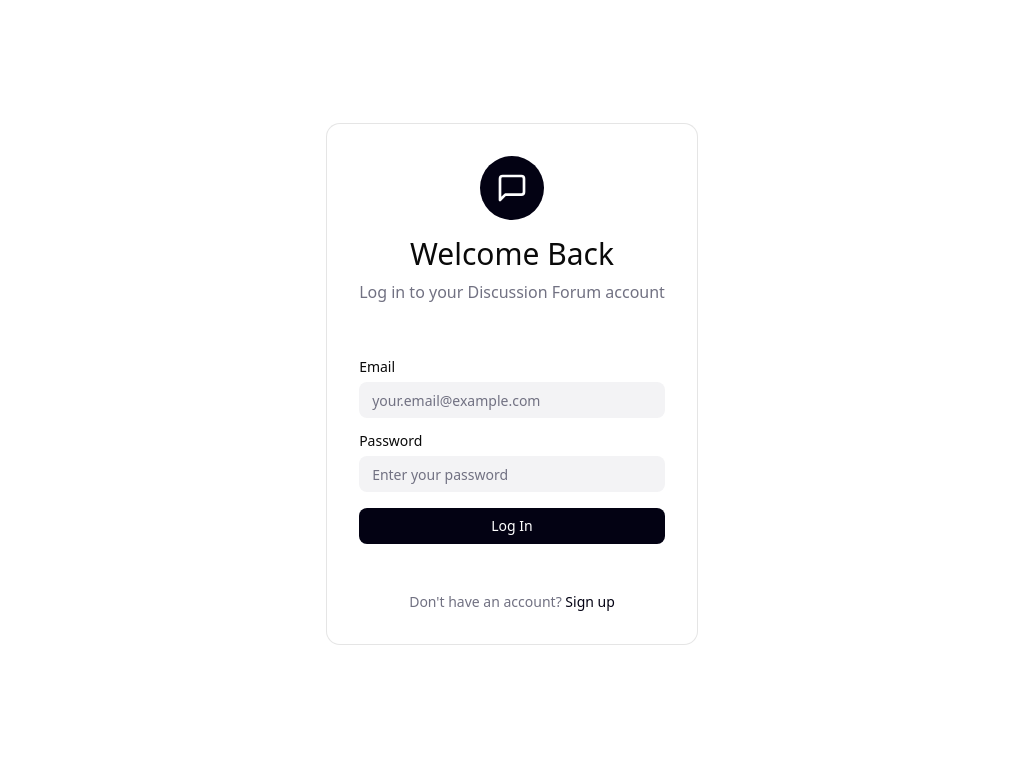
Test: Login E2E Tests › should display homepage after successful login
Type "user@example.com" into the field with test id "email-input" at point(512, 400), box [359,382,665,418]
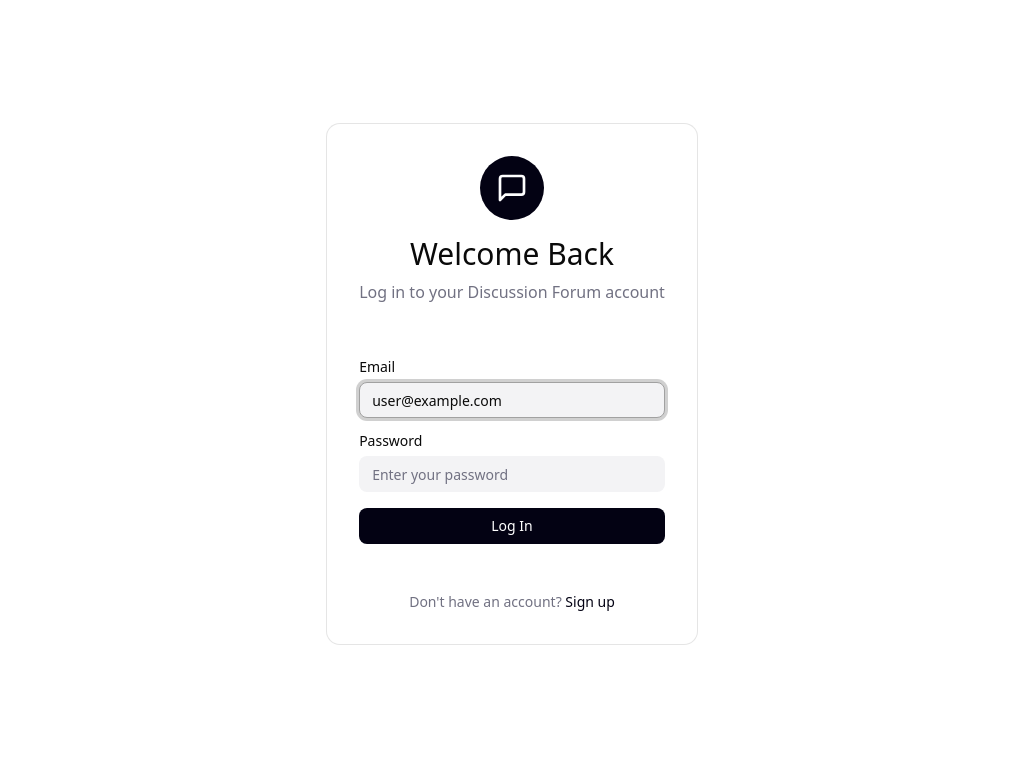
Type "correctpassword" into the password field with test id "password-input" at point(512, 474), box [359,456,665,492]
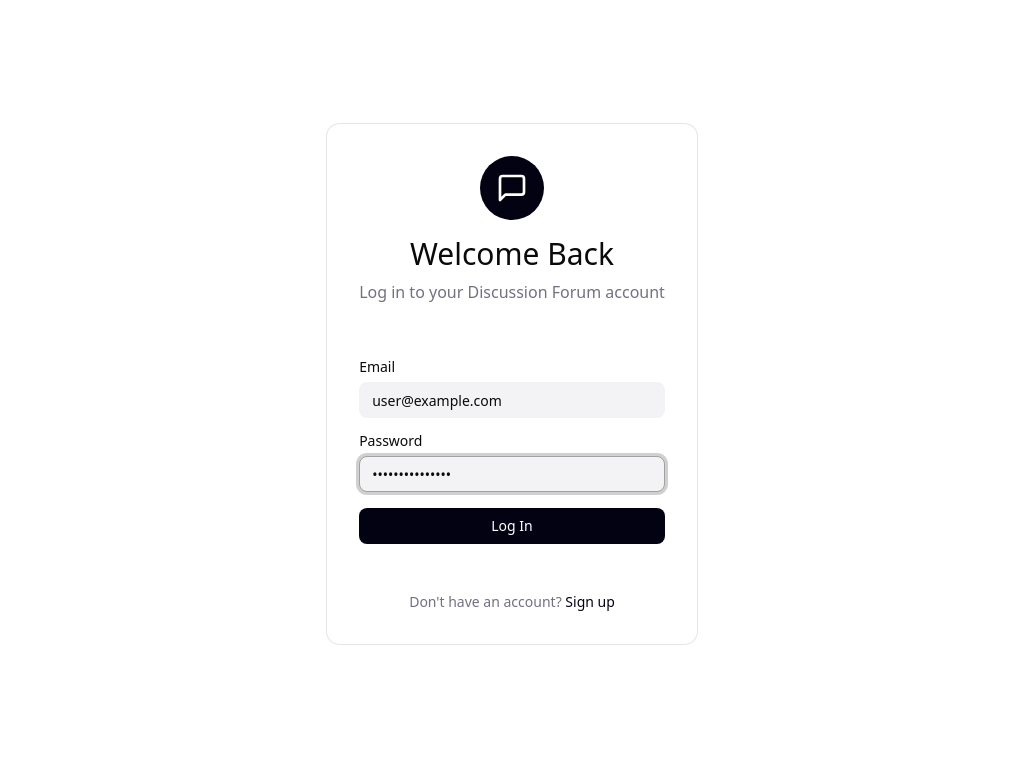
Click the submit button at point(512, 526), box [359,508,665,544]
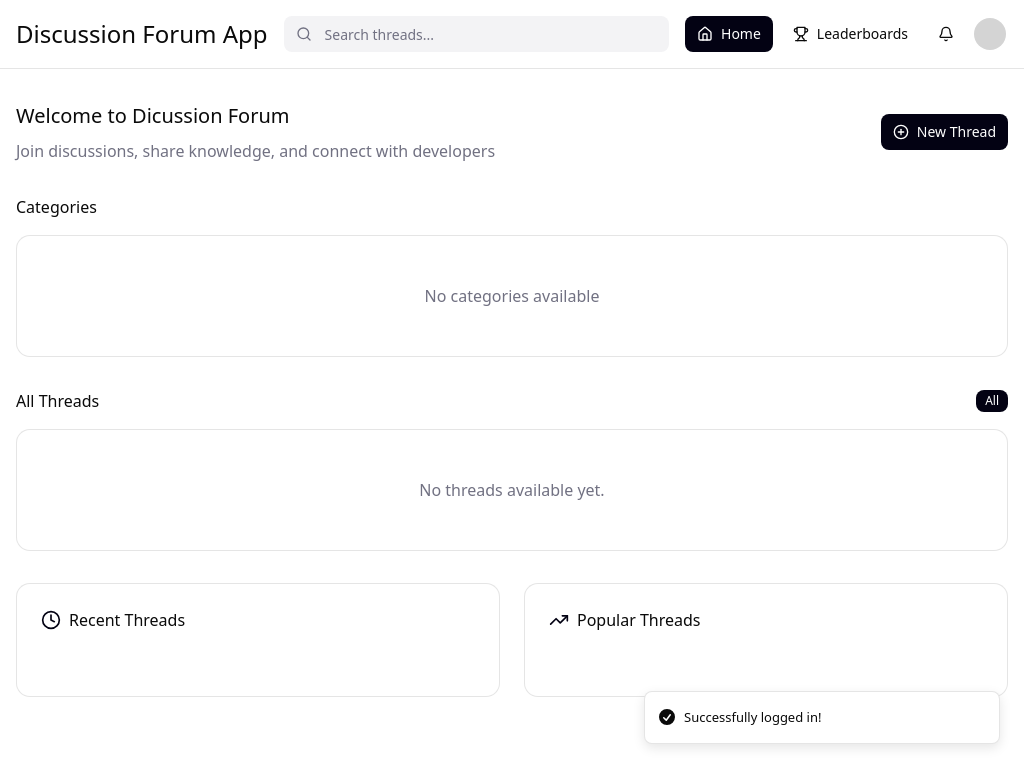
Check: the heading "Welcome Back" is gone
